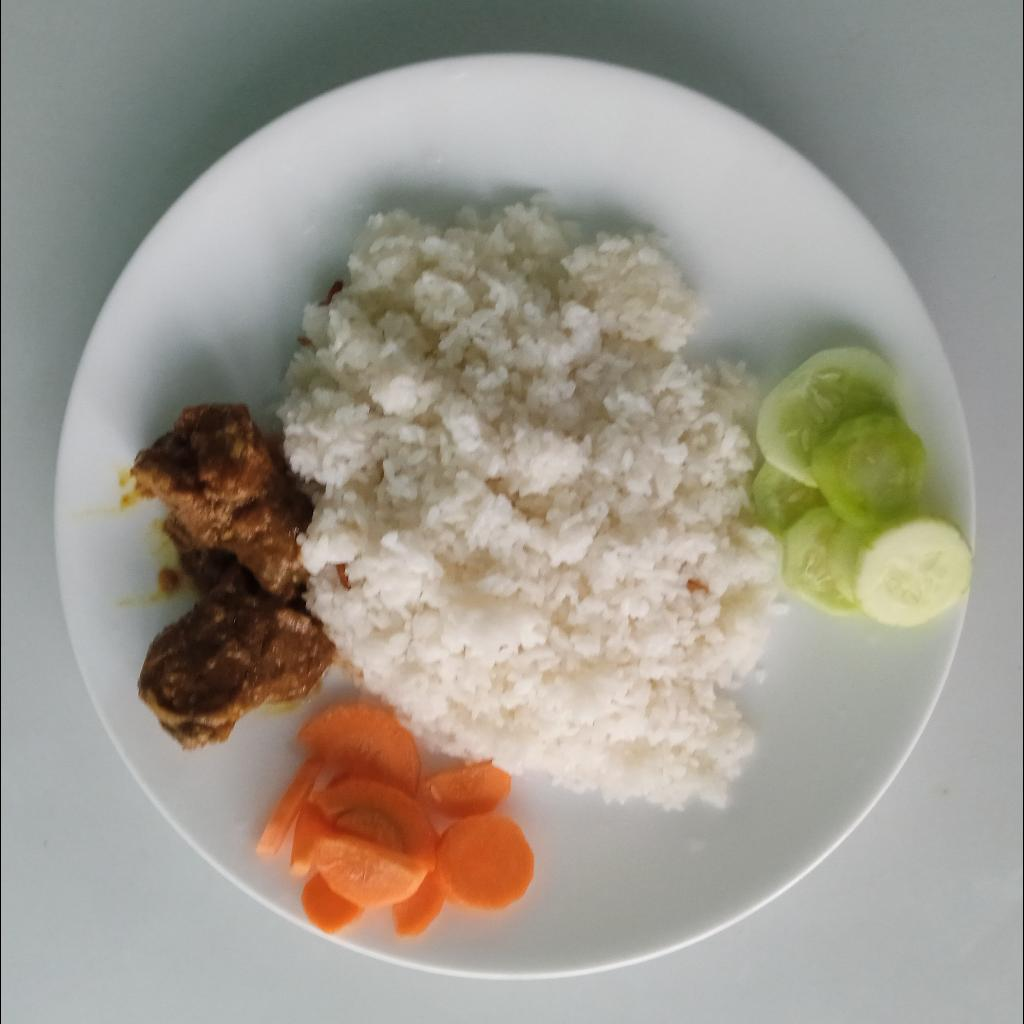beef: (126, 400, 339, 755)
carrot: (256, 696, 535, 935)
cucumber: (751, 345, 974, 627)
rice: (277, 186, 780, 809)
